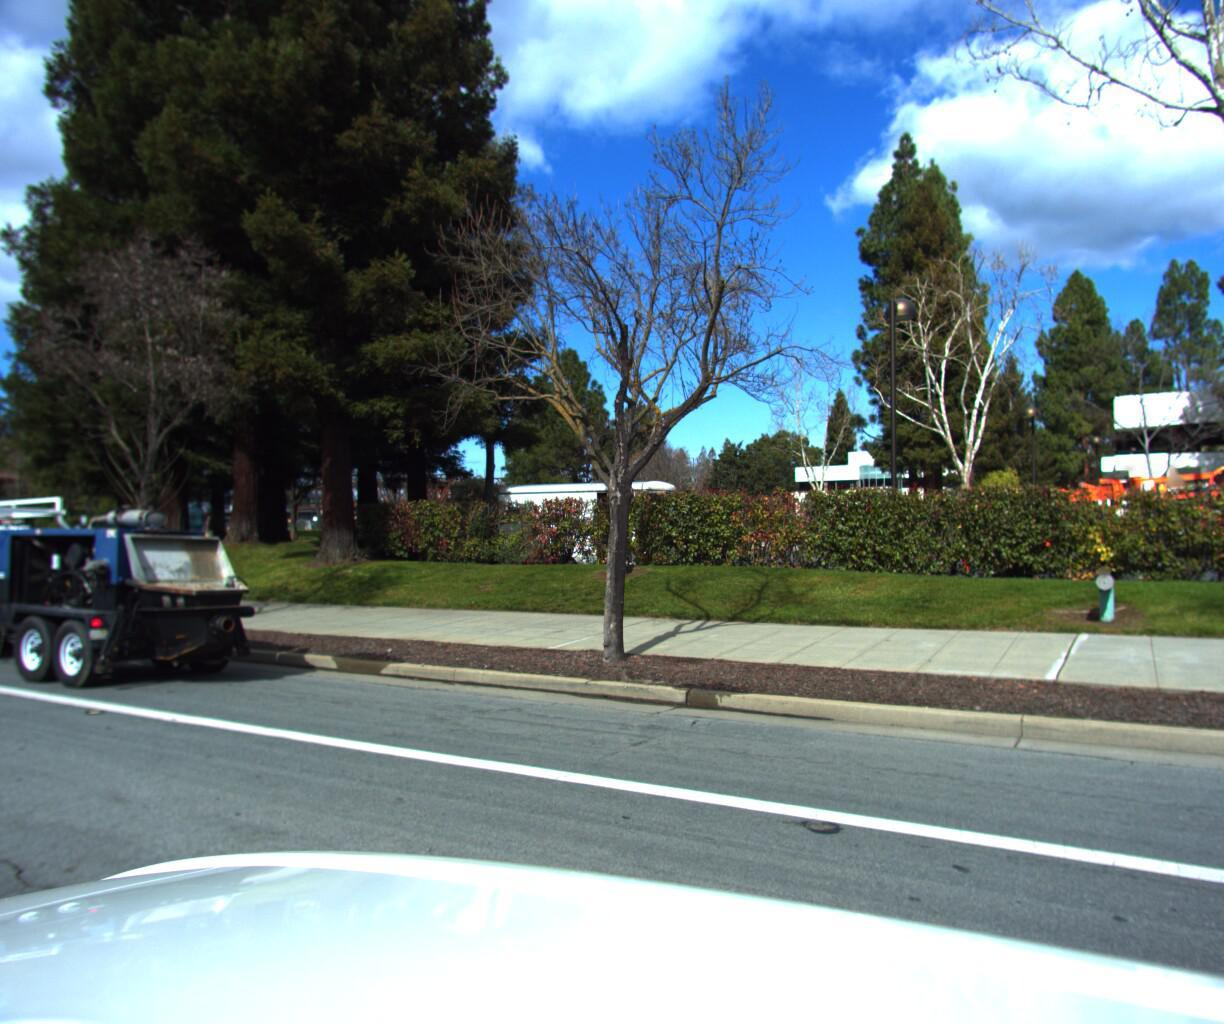truck: (0, 466, 332, 724)
